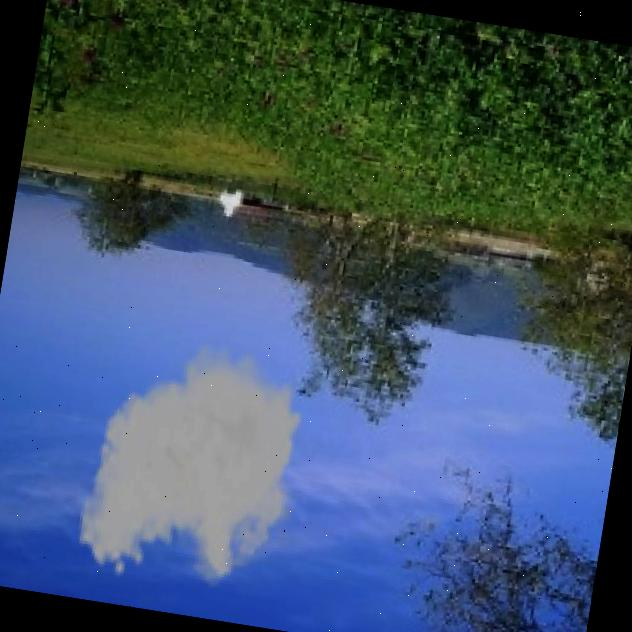smoke: (68, 319, 325, 605)
